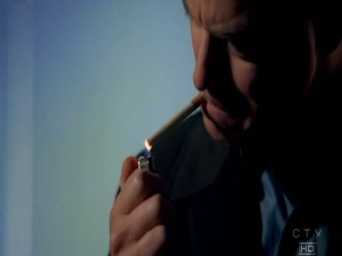smoke: (141, 91, 203, 150)
